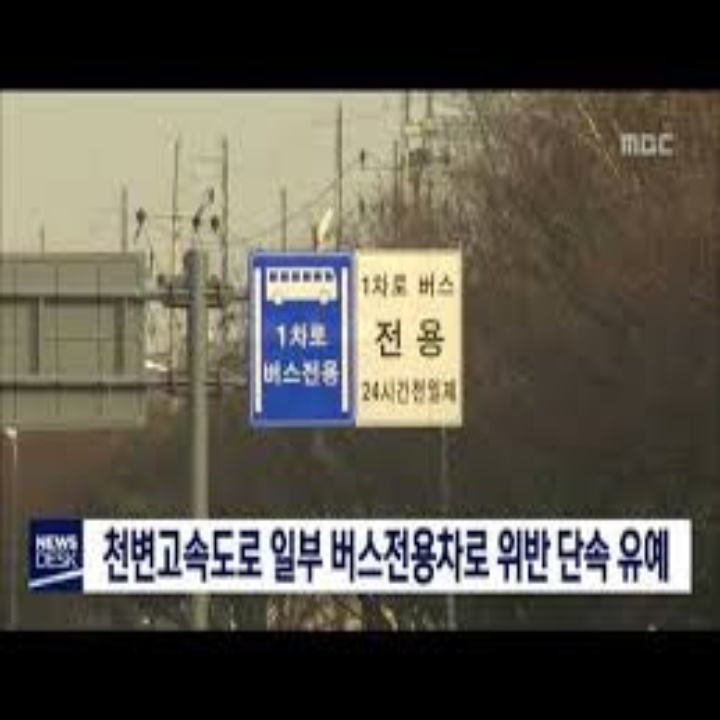bus: (261, 256, 341, 306)
